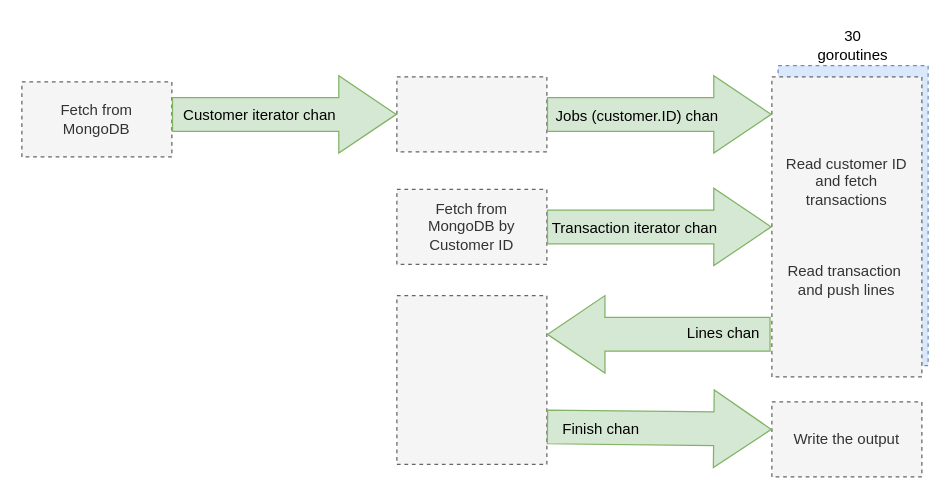
This 950x499 diagram has some shape labels left out. Each missing label, with the centre of its shape:
"Read line, write to CSV PB update on each line" belongs at (471,379).
"Set jobs for pools" belongs at (471,114).
